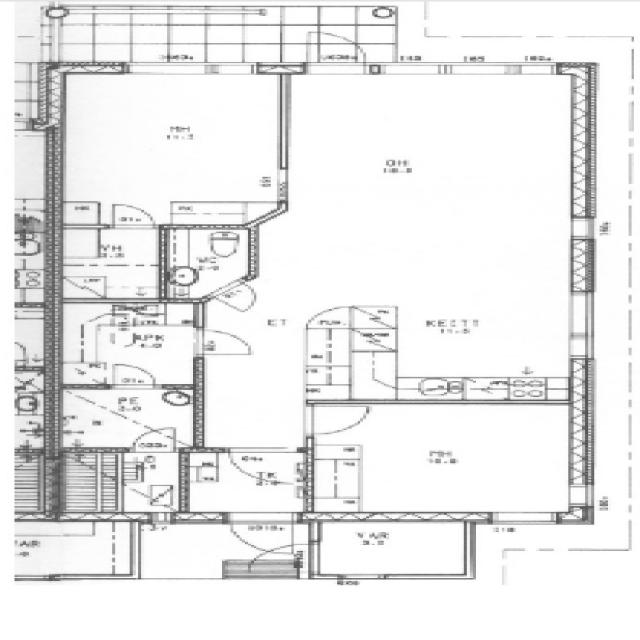door: (221, 515, 302, 555), (303, 30, 370, 76), (224, 446, 302, 484), (300, 401, 374, 438), (189, 326, 258, 360), (204, 281, 263, 315), (103, 201, 162, 231), (245, 542, 307, 570), (105, 361, 161, 389), (302, 305, 356, 331), (128, 427, 180, 453)
window: (365, 59, 550, 79), (559, 287, 605, 361), (120, 61, 261, 79), (483, 511, 564, 528), (564, 214, 602, 244), (333, 571, 408, 584), (568, 480, 598, 509)
zone: (286, 66, 592, 284), (55, 70, 282, 225), (307, 402, 585, 522), (350, 287, 584, 400), (52, 301, 200, 388), (181, 447, 312, 523), (311, 520, 472, 580), (50, 450, 180, 520), (53, 387, 196, 450), (58, 227, 162, 300), (14, 519, 138, 579), (159, 224, 254, 299)
